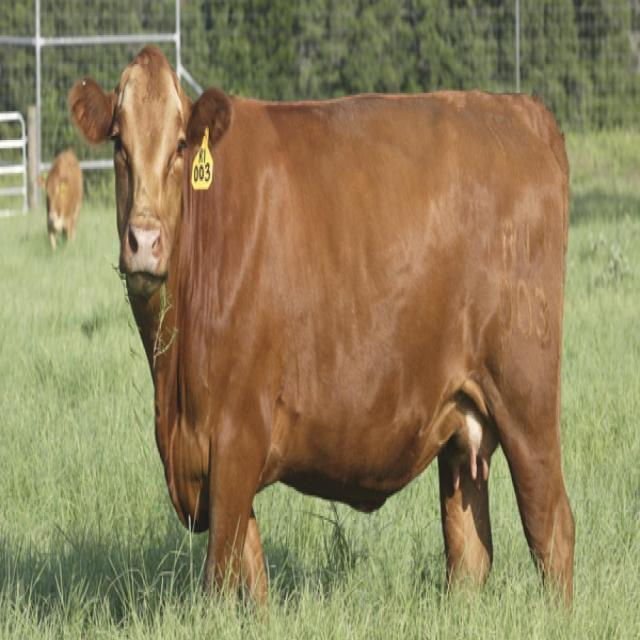cowFace: (62, 33, 239, 315)
